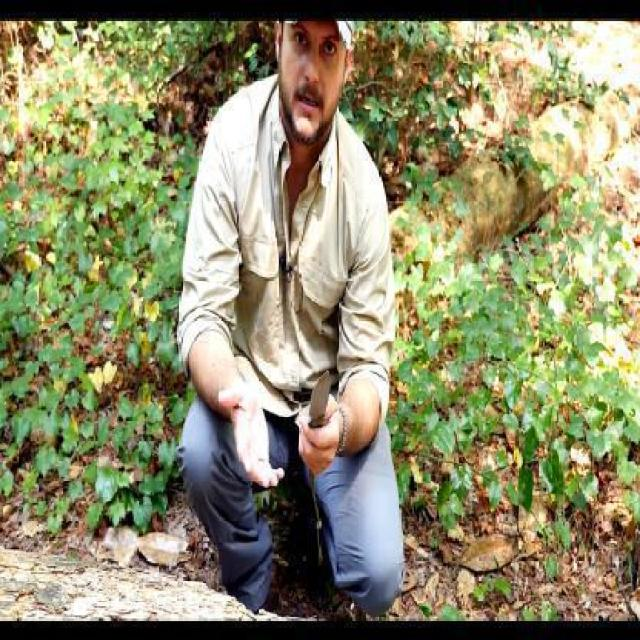knife: (295, 355, 337, 480)
